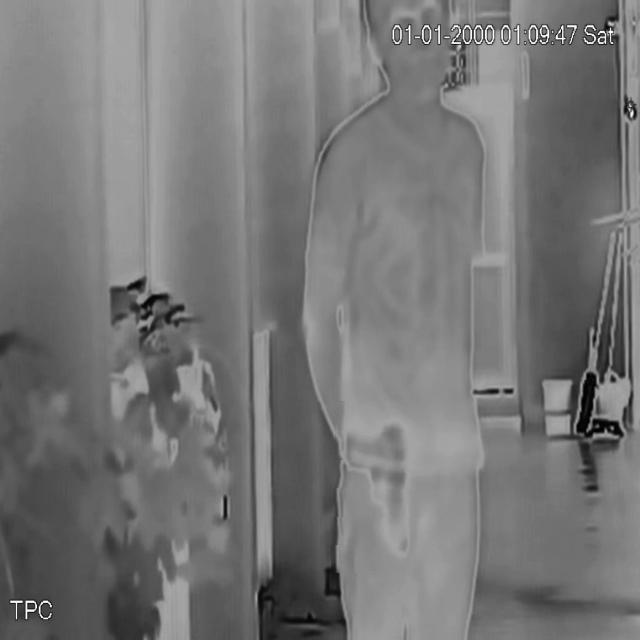Weapon: (332, 402, 438, 576)
